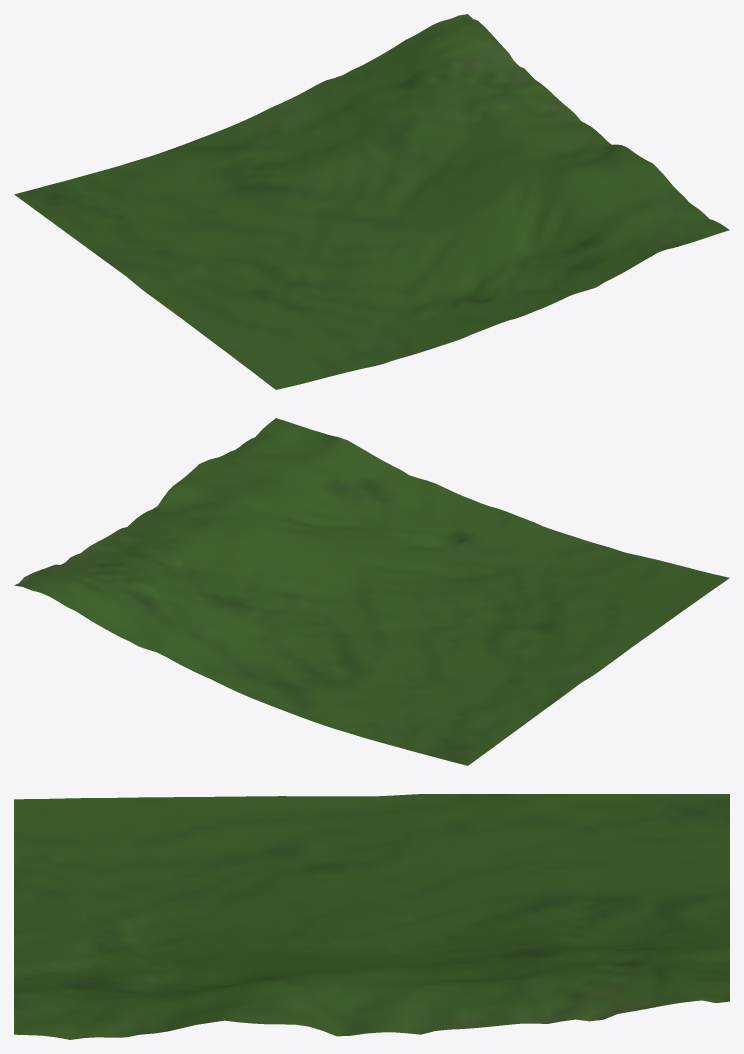
File: chunk5-7_LOD0.obj
3 renders of one model, top to bottom at view 1: azimuth 30°, elevation 25°; view 2: azimuth 150°, elevation 25°; view 3: azimuth 270°, elevation 25°, orthographic. The views are drawn at different scales.
Visible parts, largest first — view 1: chunk_5_7_LOD0; view 2: chunk_5_7_LOD0; view 3: chunk_5_7_LOD0.
Boxes of the visible parts, <box> form: chunk_5_7_LOD0: <box>14,14,729,389</box>; chunk_5_7_LOD0: <box>14,418,729,765</box>; chunk_5_7_LOD0: <box>14,794,729,1039</box>.
Bounding box in the file's own units: 1994 × 314 × 1994.
Materials: 1 (1 with a texture image).
